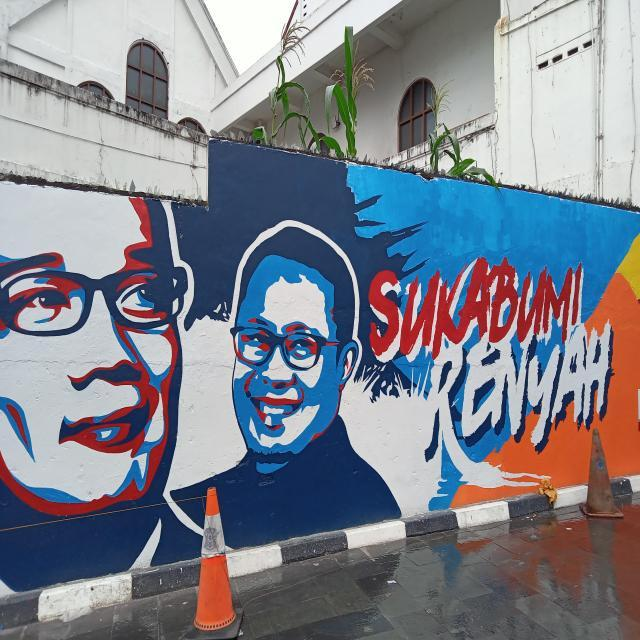-: (3, 101, 640, 569)
